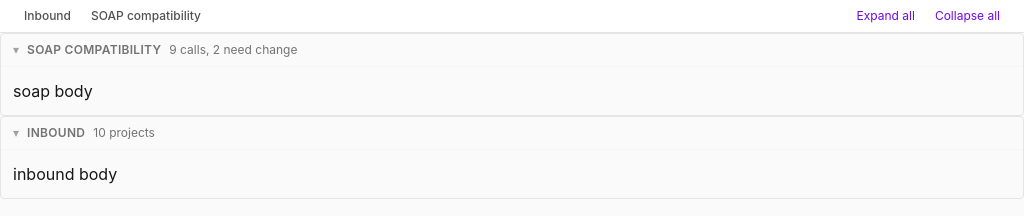
Test: CollapsibleSection › folds and opens from its header, and says what is inside while folded
The image size is (1024, 216).
Check: the text "inbound body" is shown, box [13,164,117,184]
Click the button "▾ Inbound 10 projects": [56, 132] box [13,125,1011,141]
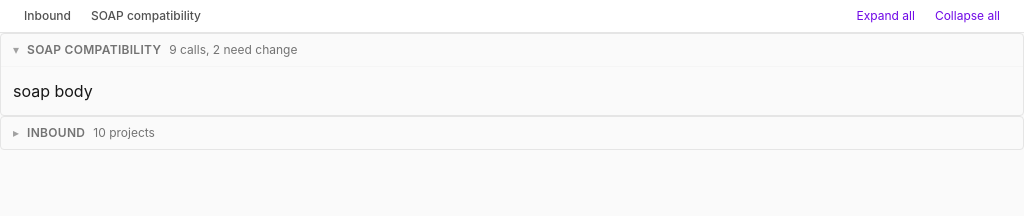
Check: the text "10 projects" is shown, box [93,125,155,141]
Check: the text "inbound body" is gone
